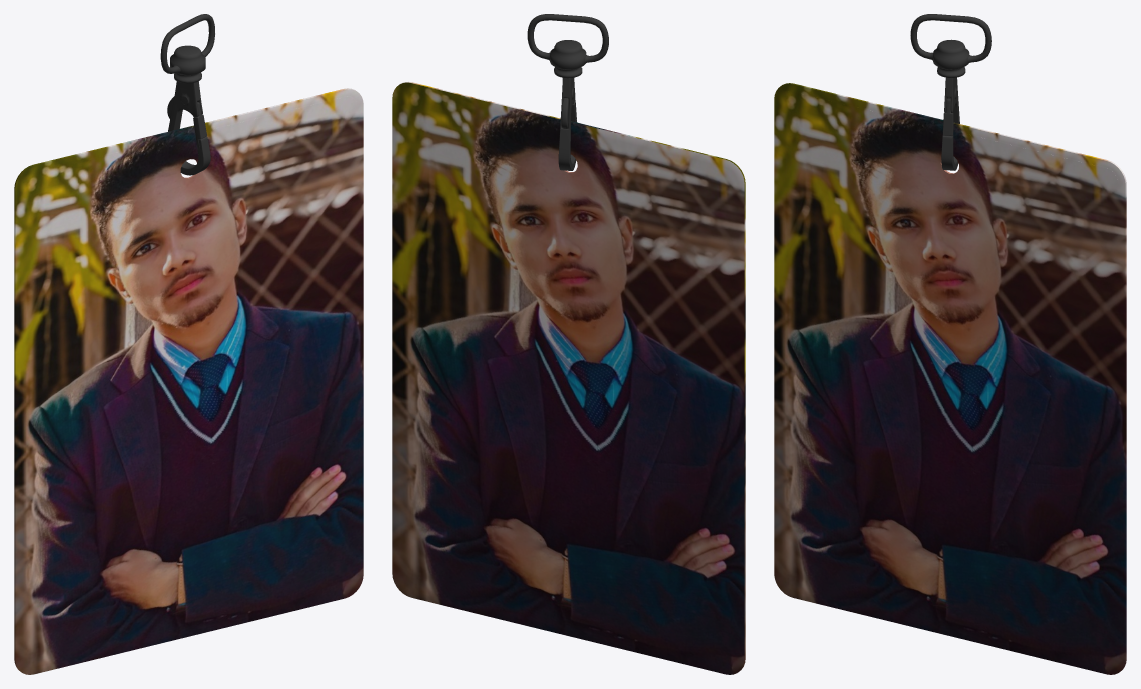
The model's file is card.glb.
3 views of the same model, side by side, from view 1: azimuth 30°, elevation 25°; view 2: azimuth 150°, elevation 25°; view 3: azimuth 330°, elevation 25° (orthographic).
Parts seen in each view (by area): view 1: card, clamp, clip; view 2: card, clip, clamp; view 3: card, clip, clamp.
Part boxes in pixels (x1,y1,x2,y2): card: [14, 88, 363, 674]; clamp: [167, 81, 210, 175]; clip: [160, 14, 214, 83]; card: [392, 82, 745, 674]; clip: [527, 14, 608, 78]; clamp: [558, 77, 577, 170]; card: [774, 83, 1126, 674]; clip: [910, 14, 991, 77]; clamp: [941, 77, 959, 170].
Size of the model in its own units: 0.7164 by 1.21 by 0.0903.
2 materials, 1 textured.
